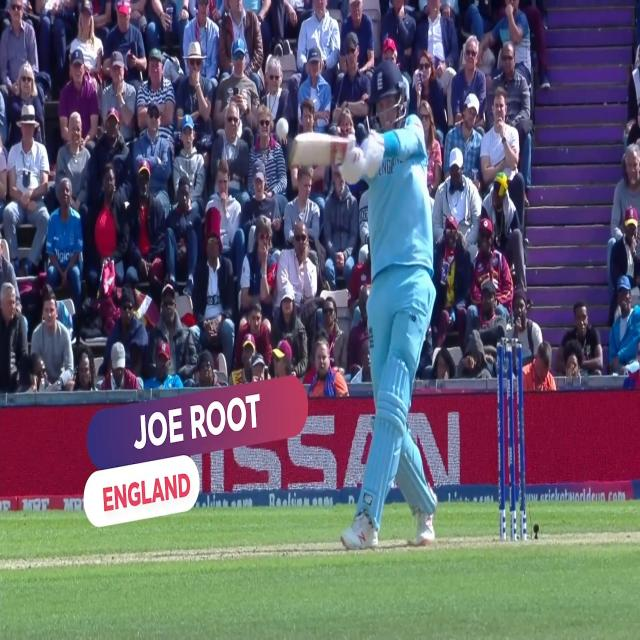ball: (271, 111, 292, 142)
